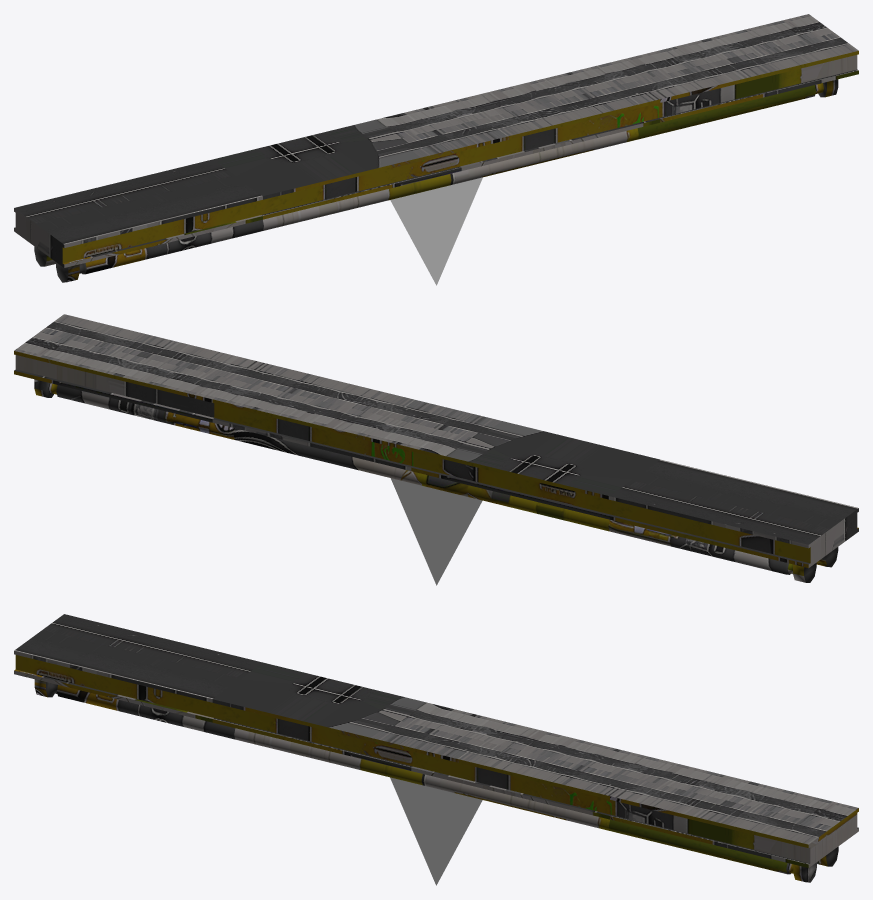
File: fluo-lamp_doubletube-80u.obj
3 views of the same model, one above another, from view 1: azimuth 30°, elevation 25°; view 2: azimuth 150°, elevation 25°; view 3: azimuth 330°, elevation 25° (orthographic).
Visible parts, largest first — view 1: fluorescent_lights:Cube_042_1_1_1, pPlane1_0; view 2: fluorescent_lights:Cube_042_1_1_1, pPlane1_0; view 3: fluorescent_lights:Cube_042_1_1_1, pPlane1_0.
Part boxes in pixels (x1,y1,x2,y2): fluorescent_lights:Cube_042_1_1_1: [14, 14, 858, 282]; pPlane1_0: [390, 177, 482, 285]; fluorescent_lights:Cube_042_1_1_1: [14, 314, 858, 582]; pPlane1_0: [390, 478, 482, 585]; fluorescent_lights:Cube_042_1_1_1: [14, 614, 858, 882]; pPlane1_0: [390, 777, 482, 885].
Size of the model in its own units: 80 by 15.05 by 8.75.
